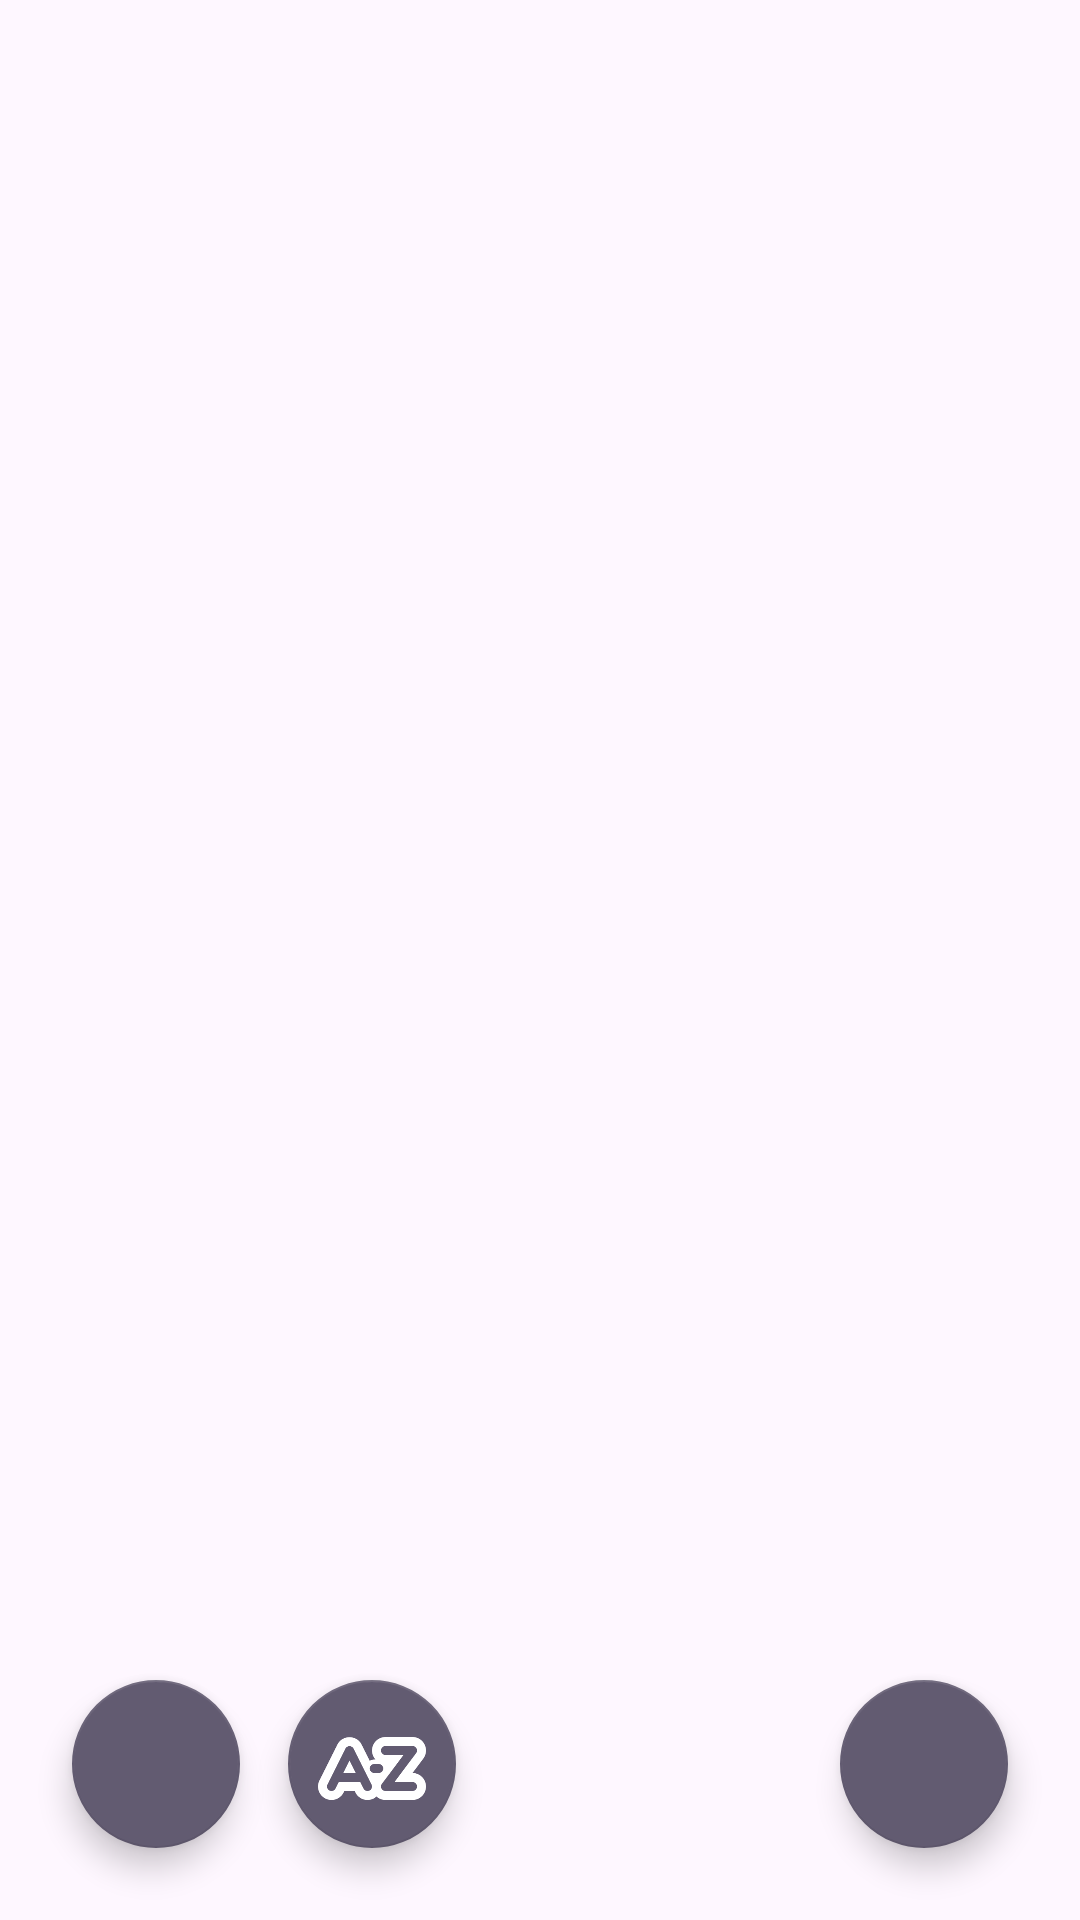

Named icons in this screenshot (1080 × 1920) and their bounding boxes, (x1, y1, x2, y2):
sort: (288, 1680, 456, 1848)
